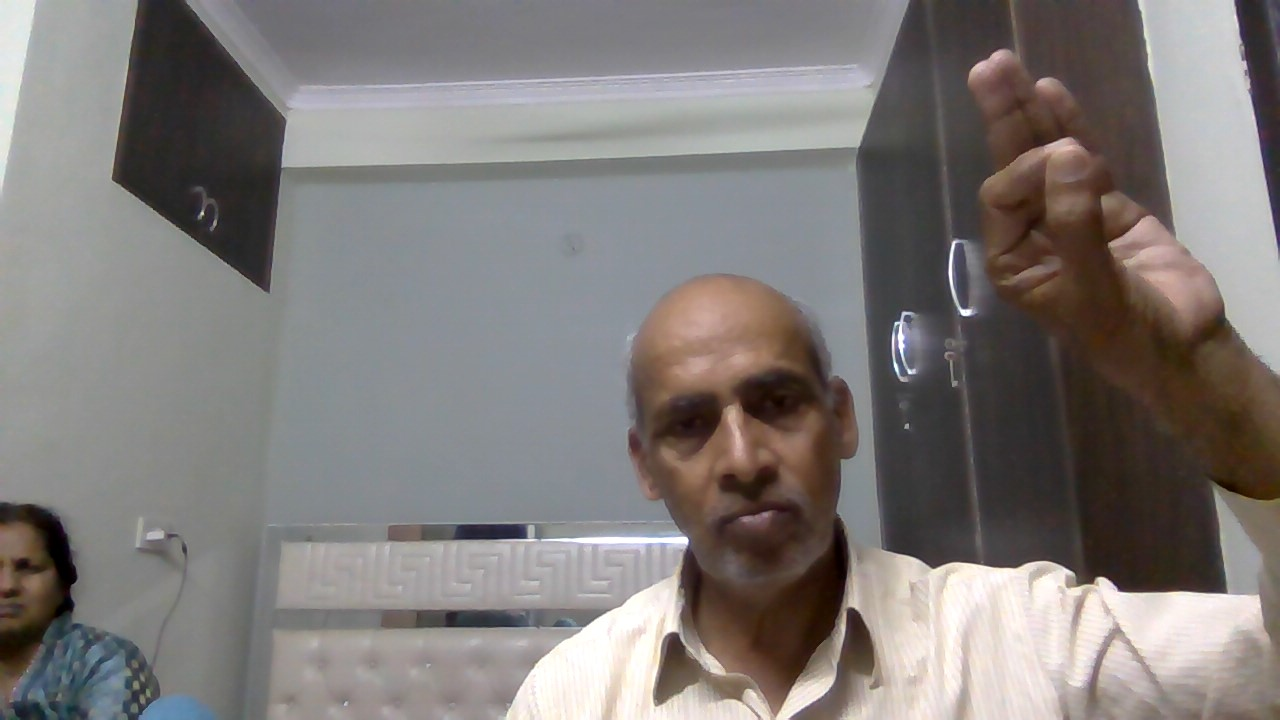Copy: (946, 40, 1251, 378)
